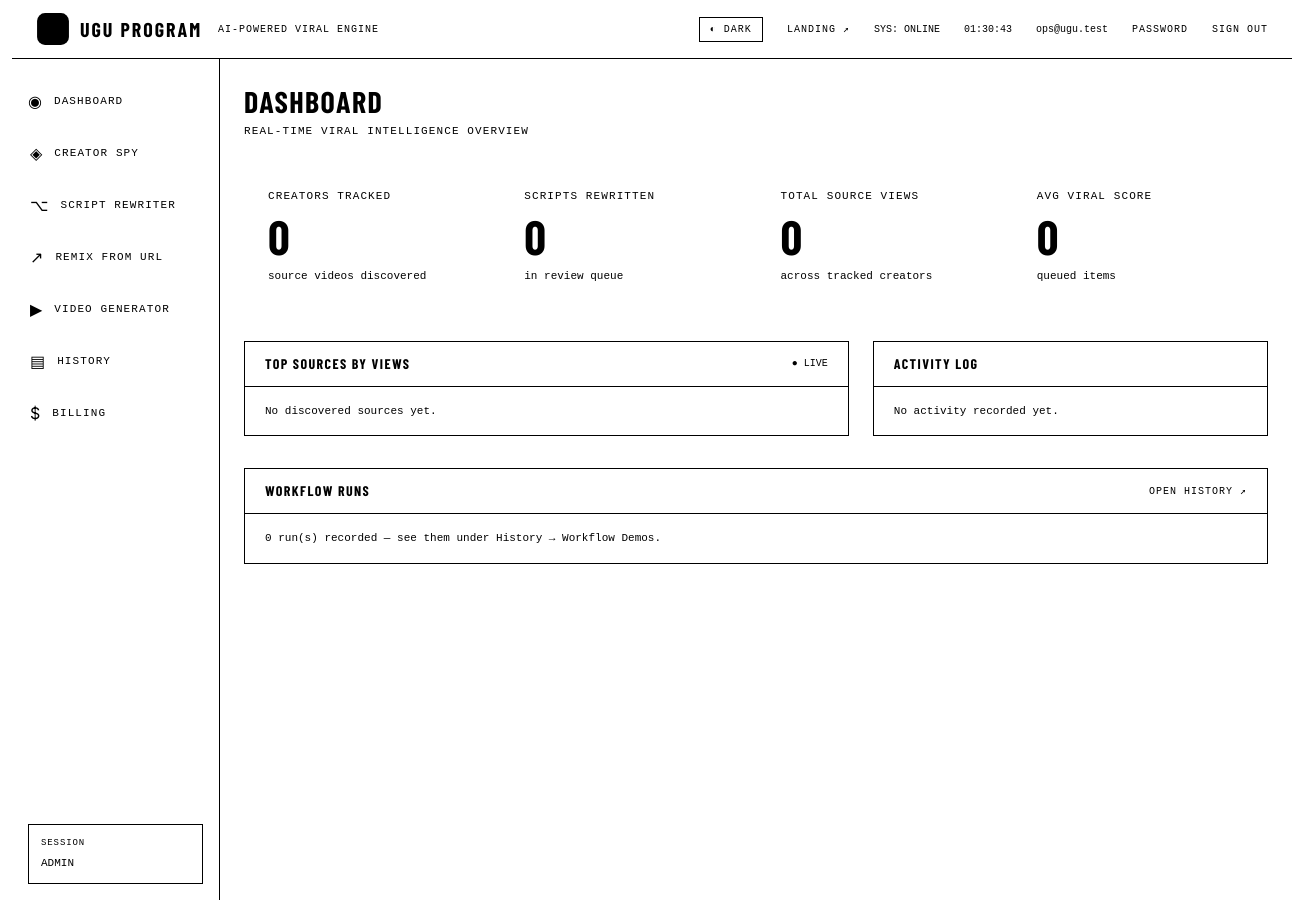
App (control panel shell) › navigates to the History tab and renders its category switcher
This screenshot has width=1292, height=900.
Expected: the text "ops@ugu.test" is shown, left=1036, top=22, right=1108, bottom=36
Click the button "▤ HISTORY": (116, 361) left=12, top=335, right=219, bottom=387
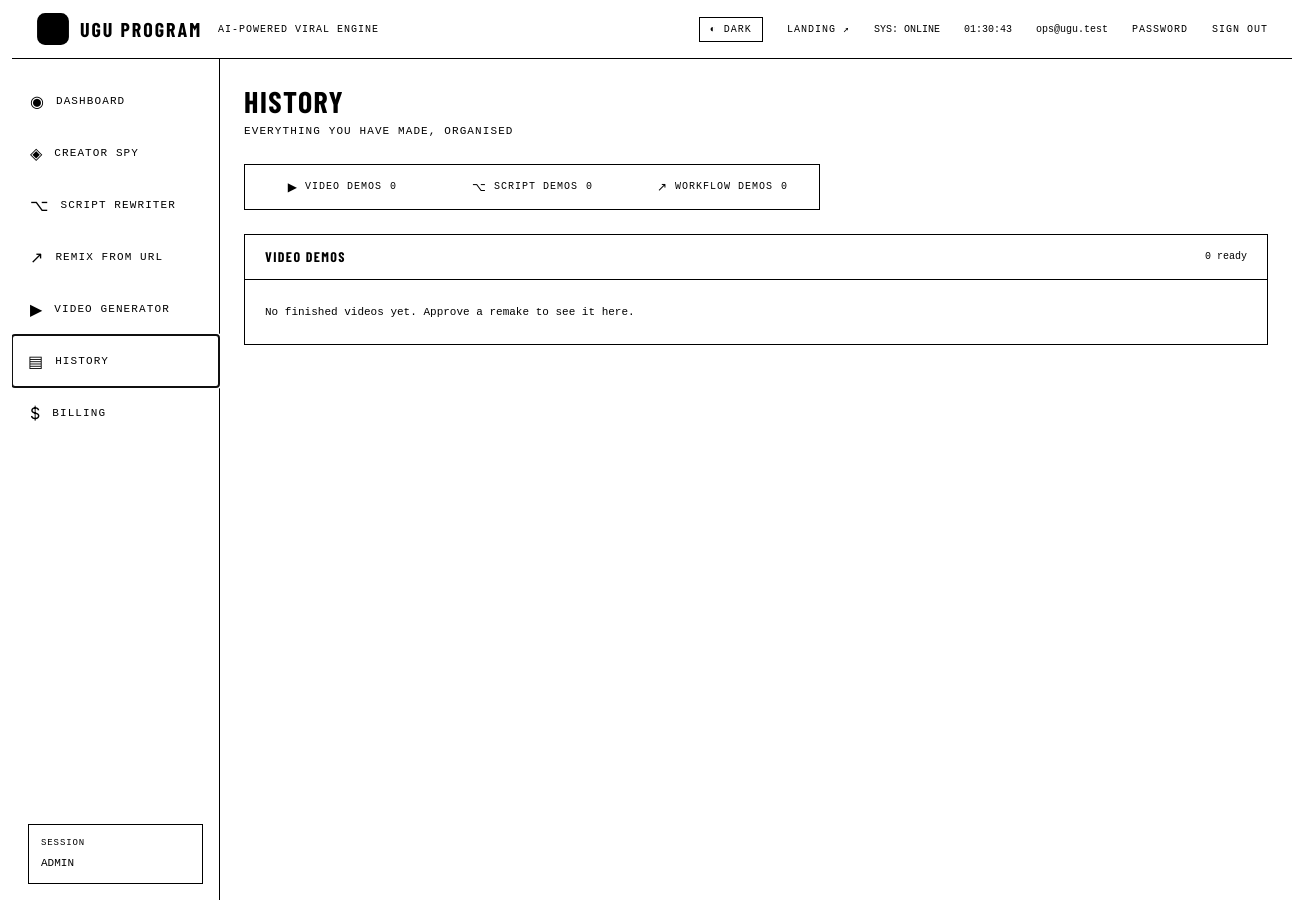
Now the heading "HISTORY" is shown, box left=244, top=83, right=344, bottom=119
Now the button "▶ VIDEO DEMOS 0" is shown, box left=249, top=168, right=435, bottom=204
Now the button "⌥ SCRIPT DEMOS 0" is shown, box left=439, top=168, right=625, bottom=204
